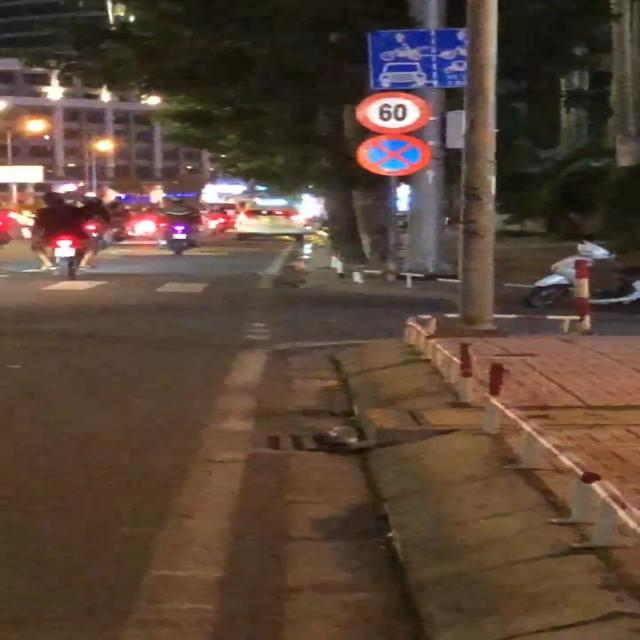Bien bao cam dung xe va do xe: (356, 132, 436, 180)
Bien bao toc do toi da cho phep: (348, 88, 431, 136)
